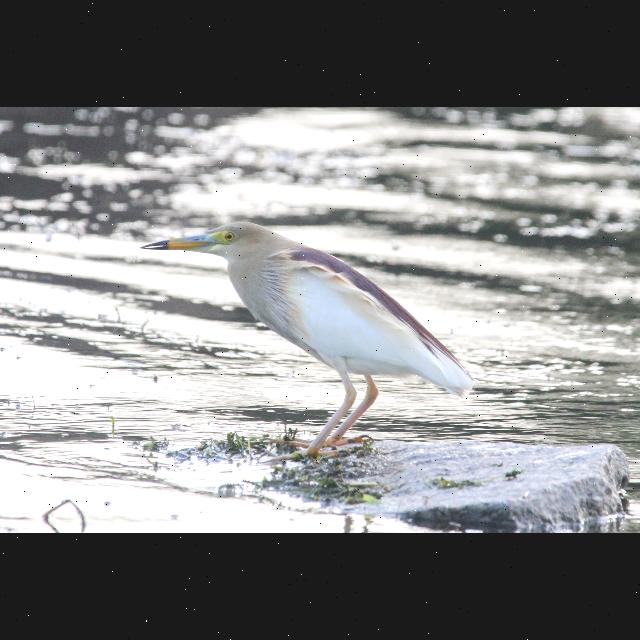heron: (131, 218, 485, 460)
